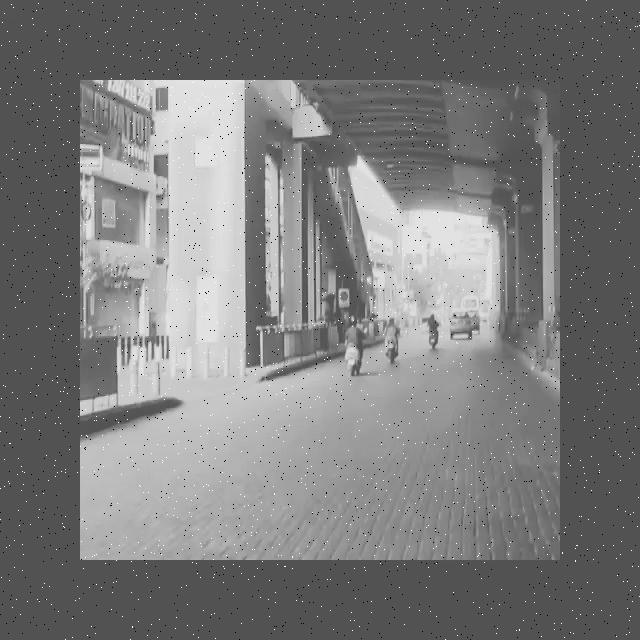Car: (446, 304, 477, 342)
